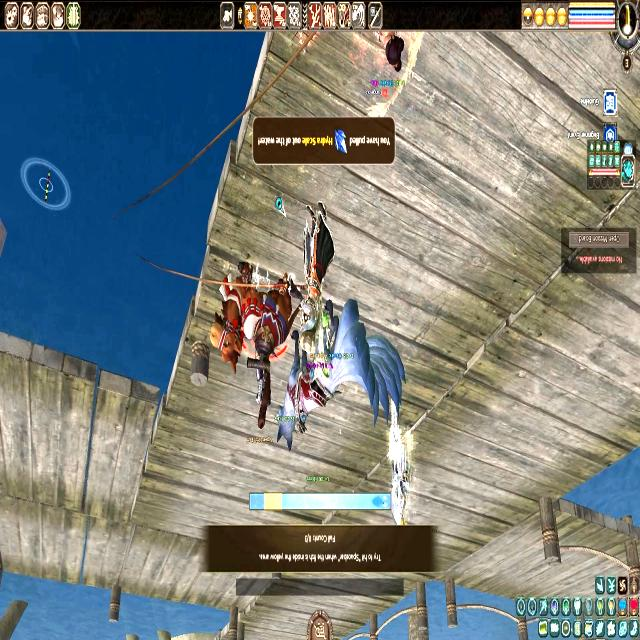fishes: (372, 496, 384, 508)
